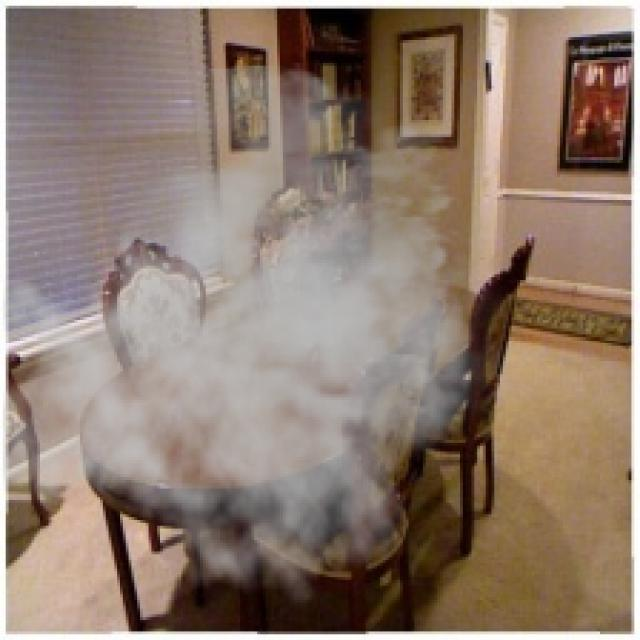Smoke: (3, 62, 523, 608)
